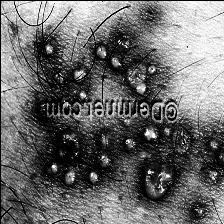Toxin: (131, 158, 173, 207), (89, 38, 121, 78)
